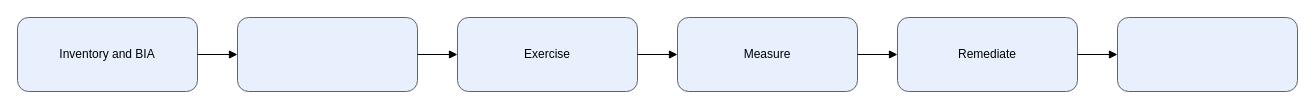
The diagram is 1315 pixels wide and 109 high, and some of its shapes have lost their labels. Here are the shapes that lost their labels. From the top down, the centre of each, then its label:
At point (327, 54): "Design and implement".
At point (1207, 54): "Assure and approve".
